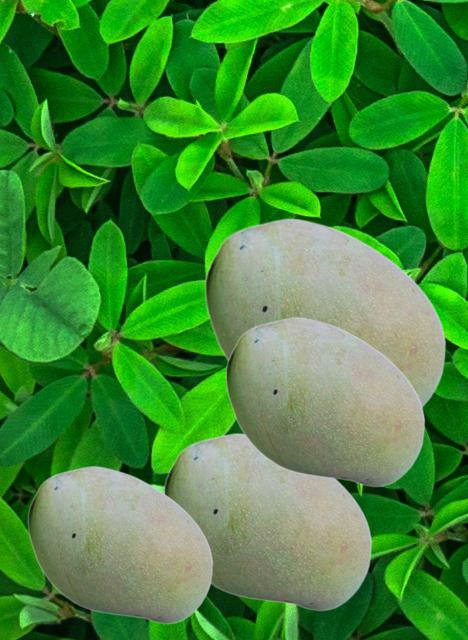green_mango: (204, 217, 445, 406), (163, 432, 371, 610), (225, 316, 424, 486), (27, 465, 212, 623)
